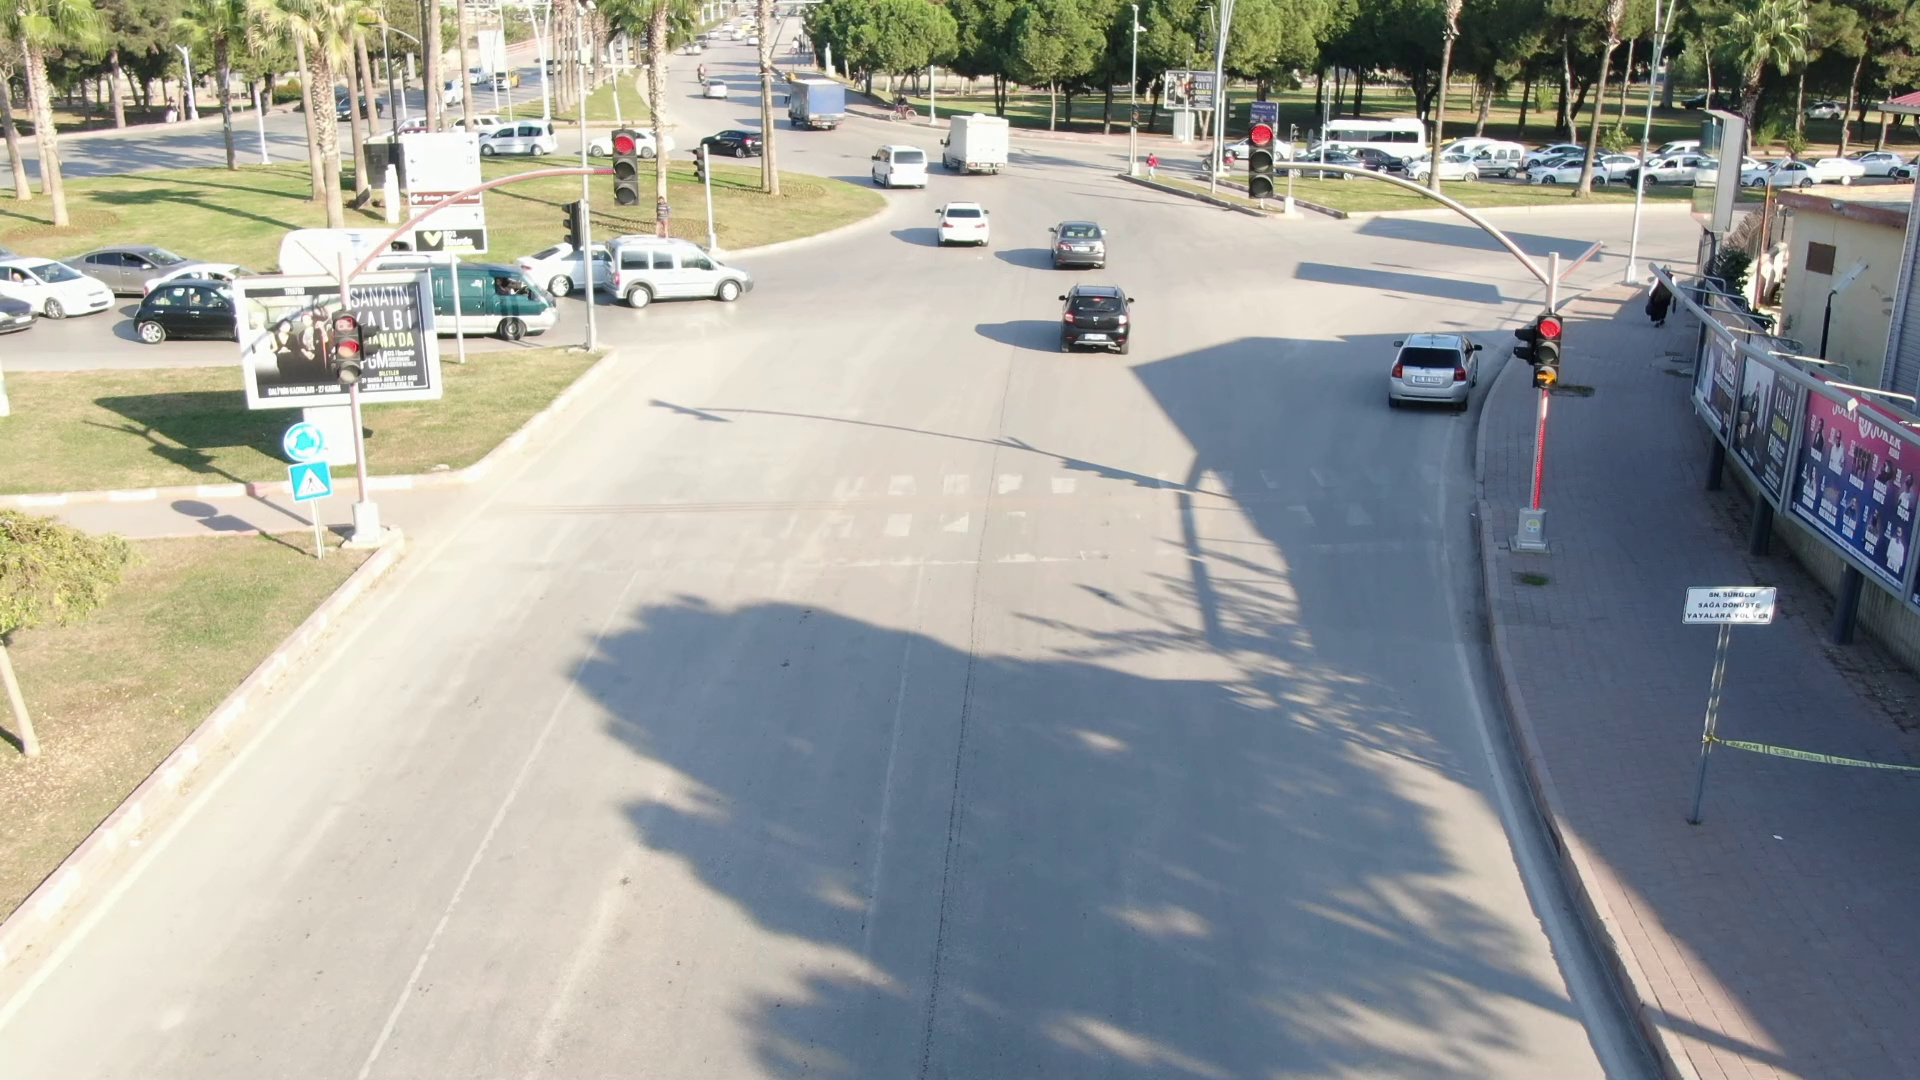car: (590, 226, 781, 323), (1371, 316, 1494, 424), (1044, 277, 1157, 371), (928, 104, 1022, 188), (918, 182, 1001, 256), (1037, 212, 1123, 275), (865, 140, 933, 201), (478, 112, 556, 163)
person: (1638, 252, 1684, 340)
